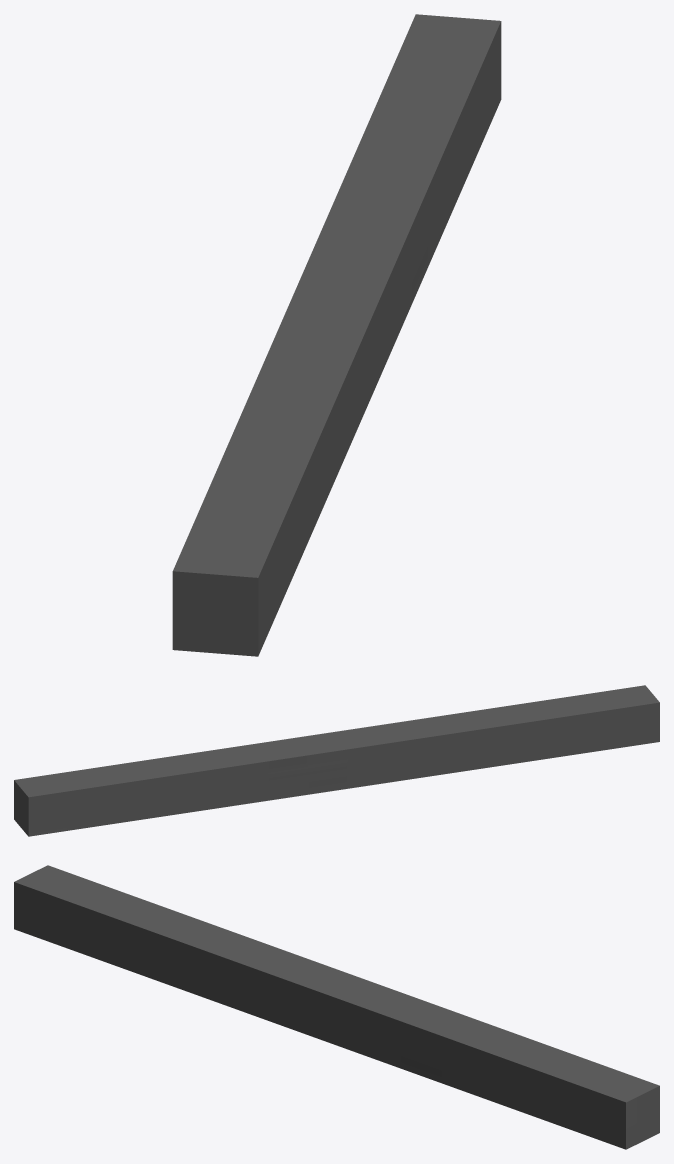
File: ladder_support__side_rail_0.glb
3 renders of one model, top to bottom at view 1: azimuth 30°, elevation 25°; view 2: azimuth 150°, elevation 25°; view 3: azimuth 270°, elevation 25°, orthographic. The views are drawn at different scales.
Visible parts, largest first — view 1: world; view 2: world; view 3: world.
Part boxes in pixels (bbox=[...]): world: bbox=[172, 14, 501, 656]; world: bbox=[14, 685, 659, 836]; world: bbox=[14, 865, 659, 1149].
Size of the model in its own units: 0.2798 by 0.026 by 0.3219.
Materials: 1 (1 with a texture image).
